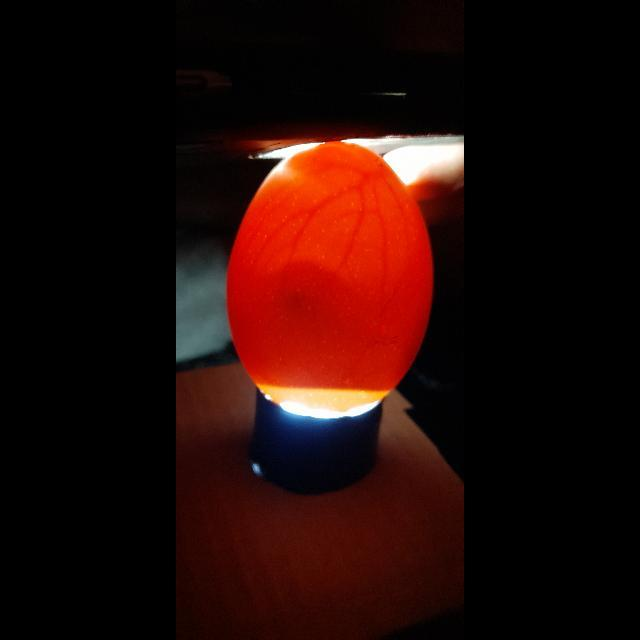Fertile: (218, 141, 444, 417)
